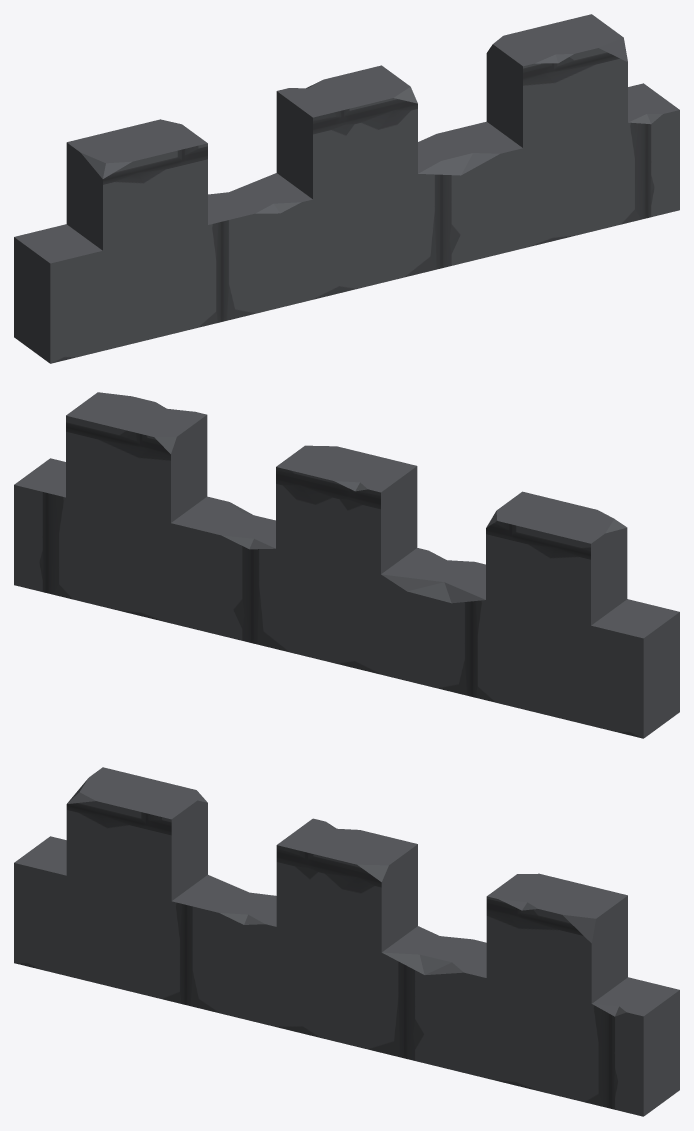
File: castle_battlements.gltf
The picture shows the model from 3 angles, top to bottom: view 1: azimuth 30°, elevation 25°; view 2: azimuth 150°, elevation 25°; view 3: azimuth 330°, elevation 25°; orthographic projection.
Visible parts, largest first — view 1: castle_battlements; view 2: castle_battlements; view 3: castle_battlements.
Boxes of the visible parts, <box> form: castle_battlements: <box>14,14,679,363</box>; castle_battlements: <box>14,392,679,738</box>; castle_battlements: <box>14,767,679,1116</box>.
Bounding box in the file's own units: 5 × 1.38 × 0.5.
1 material, 1 textured.
